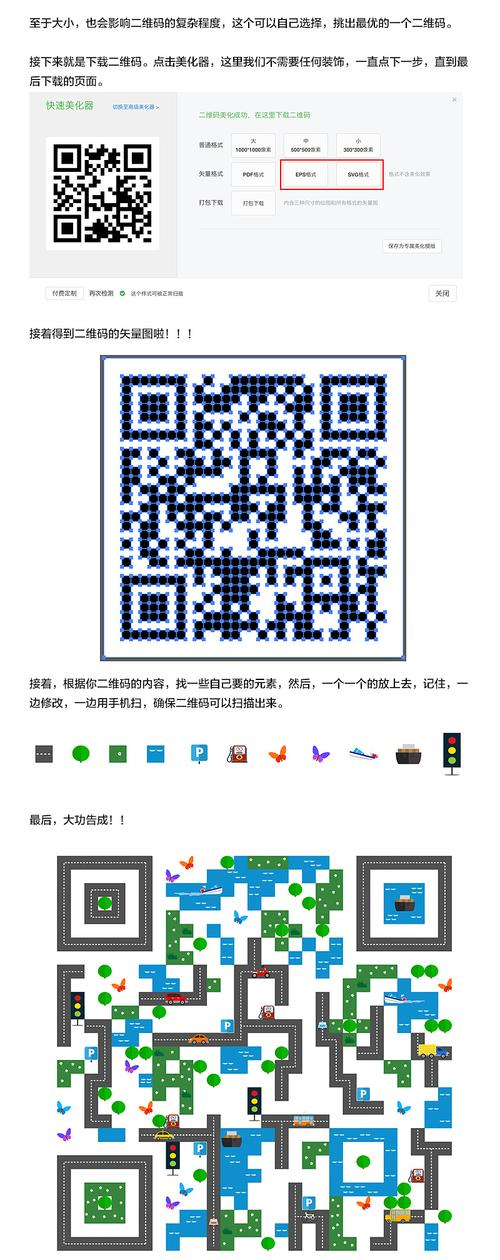QRCode: (49, 844, 467, 1256), (111, 368, 402, 650), (50, 139, 162, 251)
